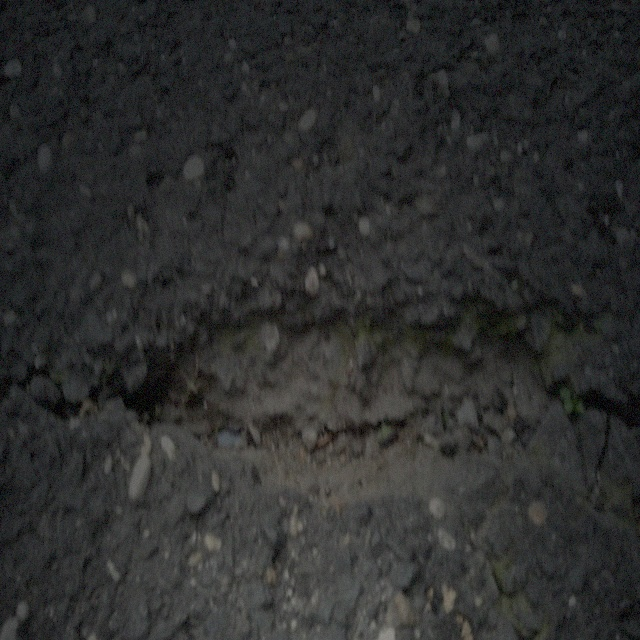pothole: (122, 273, 578, 487)
